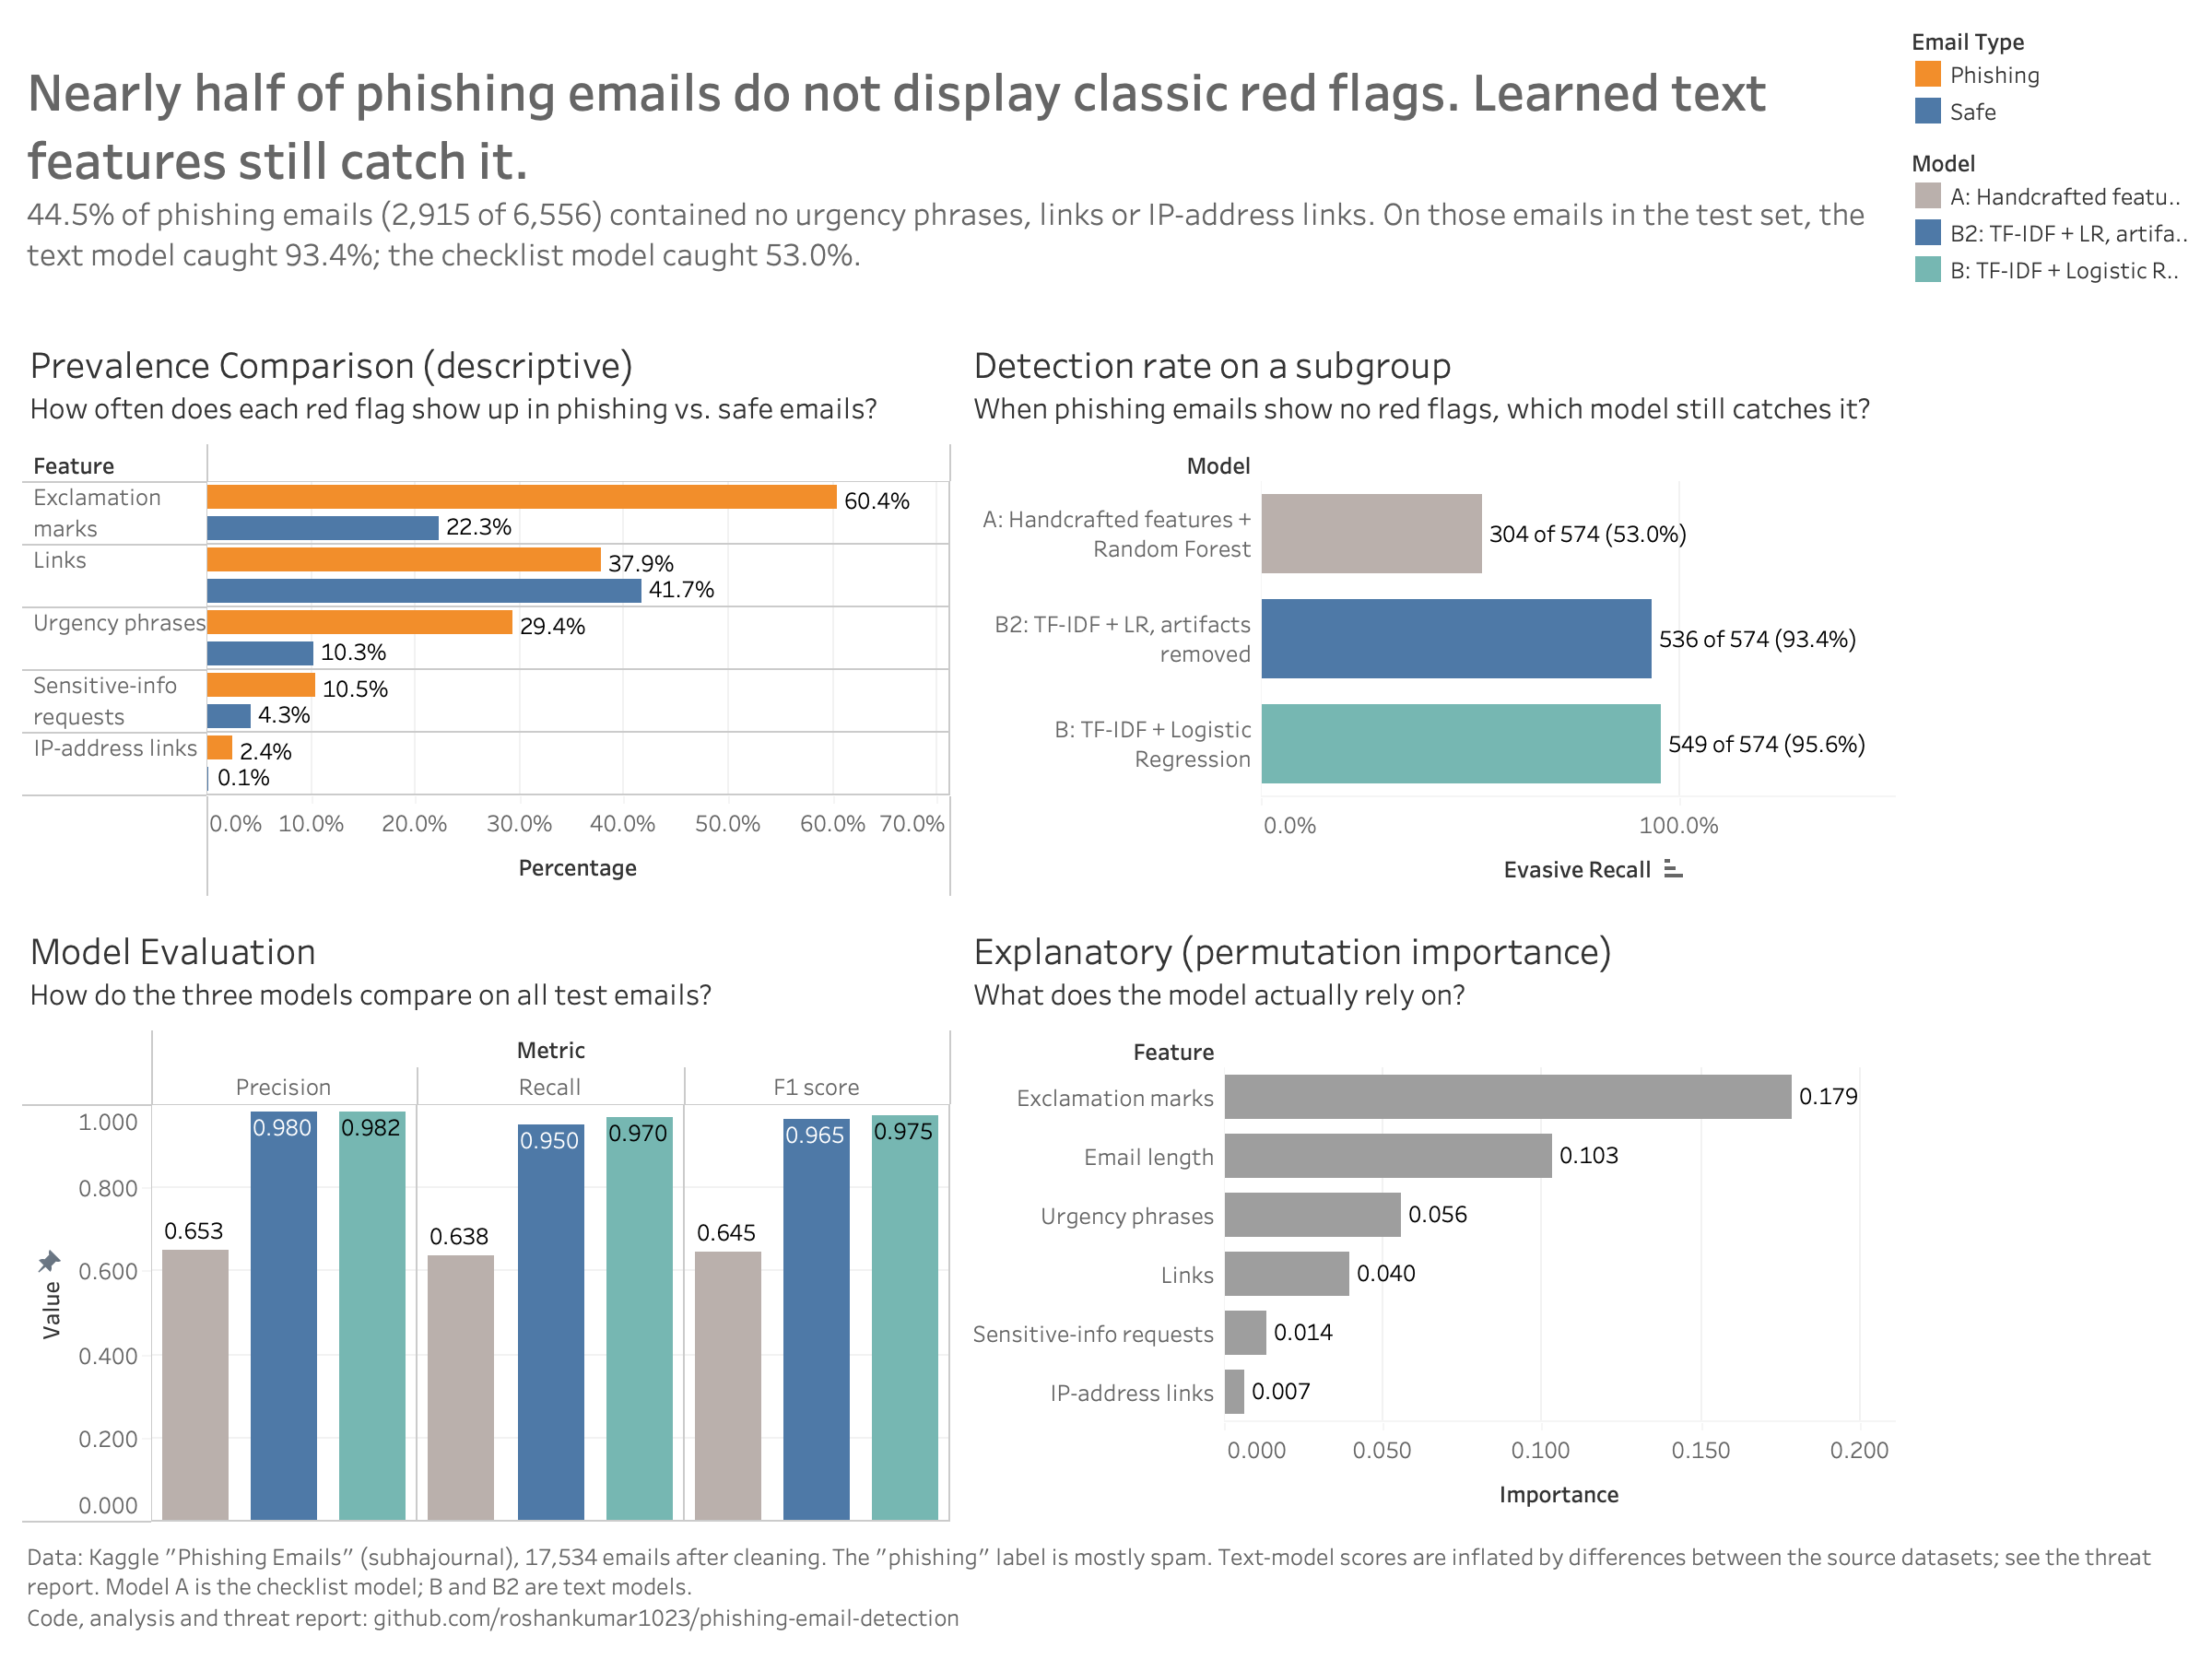

The page's visual inventory and layout, read from the dashboard file:
{"tool":"tableau","page":{"name":"Phishing Detection","canvas":[1200,900],"ordinal":0},"visuals":[{"type":"text","box":[8,8,1024,166.4]},{"type":"legend","title":"Red Flags","param":"[federated.0ennve10ohfrq71b9qh331lje490].[none:Email Type:nk]","box":[1032,8,160,66]},{"type":"legend","title":"Red-Flag-Free caught","param":"[federated.18gta0a0dkelf711ryq981ndy2zi].[none:model:nk]","box":[1032,74,160,86]},{"type":"worksheet","title":"Red Flags","mark":"Automatic","rows":["feature","Email Type"],"cols":["pct_nonzero"],"box":[8,174.4,512,317.1]},{"type":"worksheet","title":"Red-Flag-Free caught","mark":"Automatic","rows":["model"],"cols":["evasive_recall"],"box":[520,174.4,512,317.1]},{"type":"worksheet","title":"Overall performance","mark":"Automatic","rows":["value"],"cols":["metric","model"],"box":[8,491.5,512,338.5]},{"type":"worksheet","title":"Feature Importance ","mark":"Automatic","rows":["feature"],"cols":["importance"],"box":[520,491.5,512,338.5]},{"type":"text","box":[8,830,1184,62]}]}

Visuals, with their boxes in screenshot pixels (x1, y1, x2, y2), scaled from the page's 1200x900 canvas onto the 2212x1659 screenshot:
text: Rect(15, 15, 1902, 322)
"Red Flags" legend: Rect(1902, 15, 2197, 136)
"Red-Flag-Free caught" legend: Rect(1902, 136, 2197, 295)
"Red Flags" worksheet: Rect(15, 322, 959, 906)
"Red-Flag-Free caught" worksheet: Rect(959, 322, 1902, 906)
"Overall performance" worksheet: Rect(15, 906, 959, 1530)
"Feature Importance " worksheet: Rect(959, 906, 1902, 1530)
text: Rect(15, 1530, 2197, 1644)
